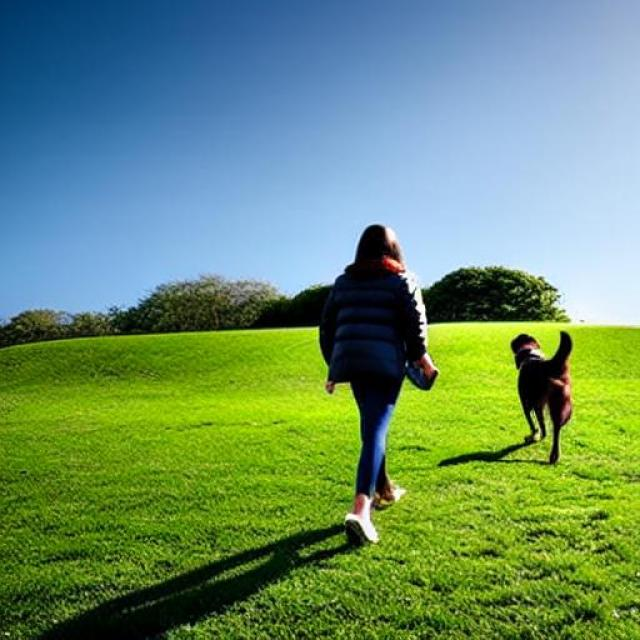Unleashed_Dog: (348, 320, 574, 466)
